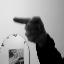g: (10, 15, 46, 44)
